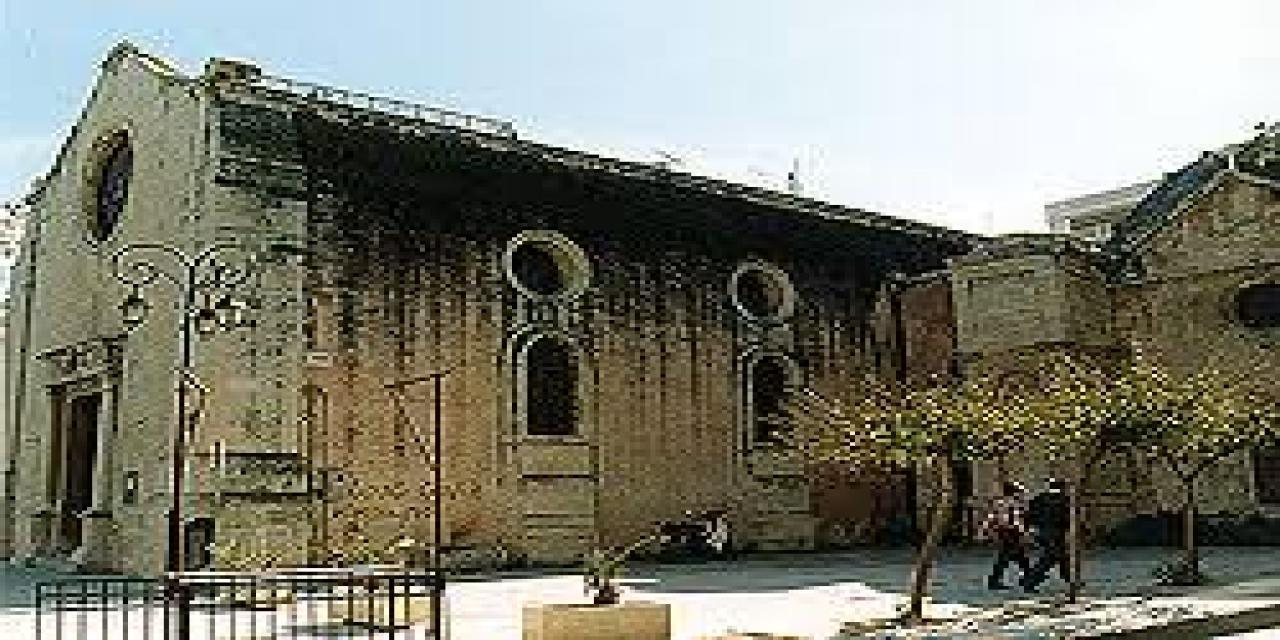Agia Aikaterini: (16, 51, 1280, 579)
